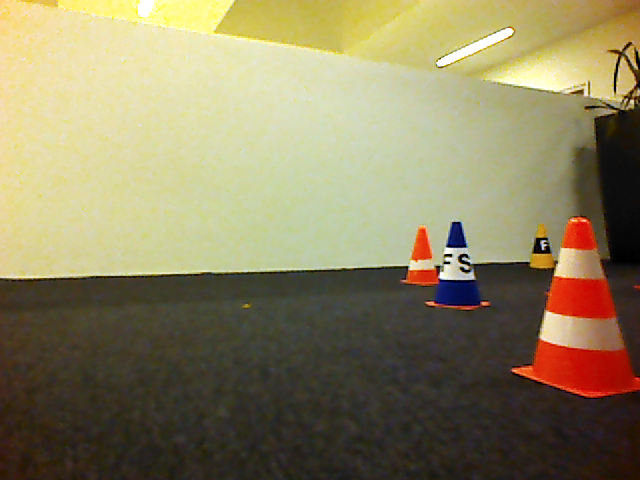bluecone: (430, 221, 488, 312)
